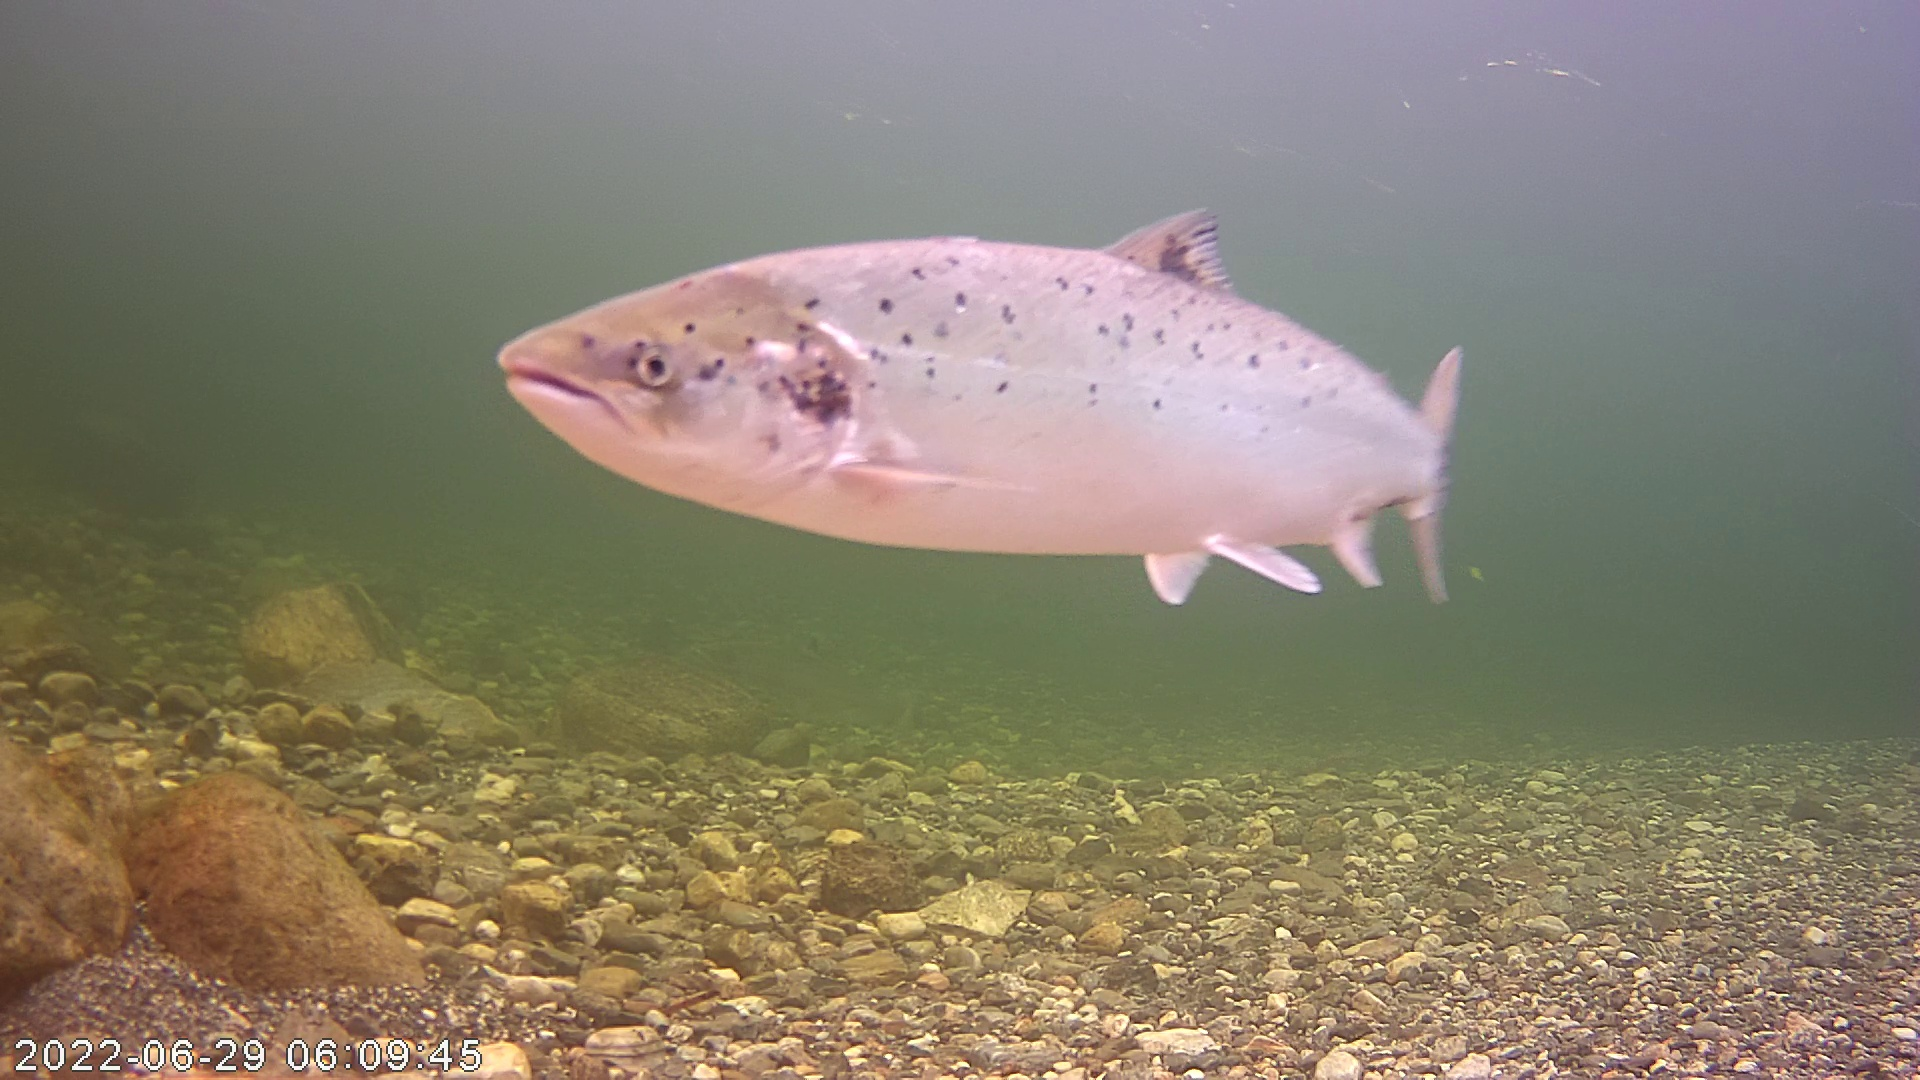salmon: (487, 79, 1472, 591)
